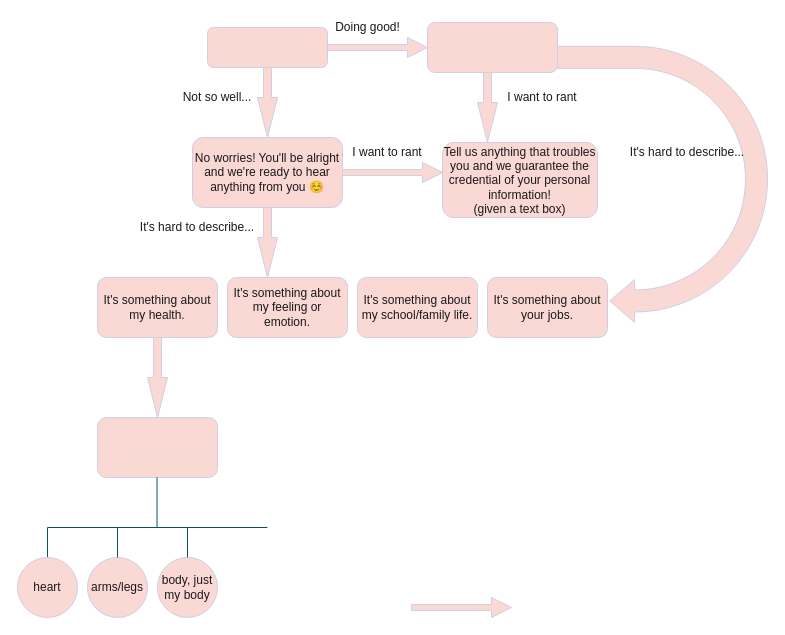
This 785x635 diagram has some shape labels left out. Each missing label, with the centre of its shape:
"Hey how are you doing?" goes at point (267, 47).
"I don't feel so good about my..." goes at point (157, 447).
"That's cool! We're ready to hear anything from you!" goes at point (492, 47).
